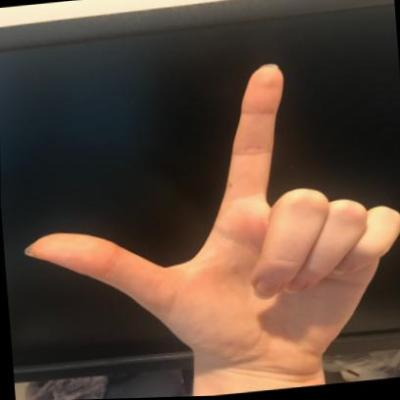hand: (3, 47, 399, 391)
